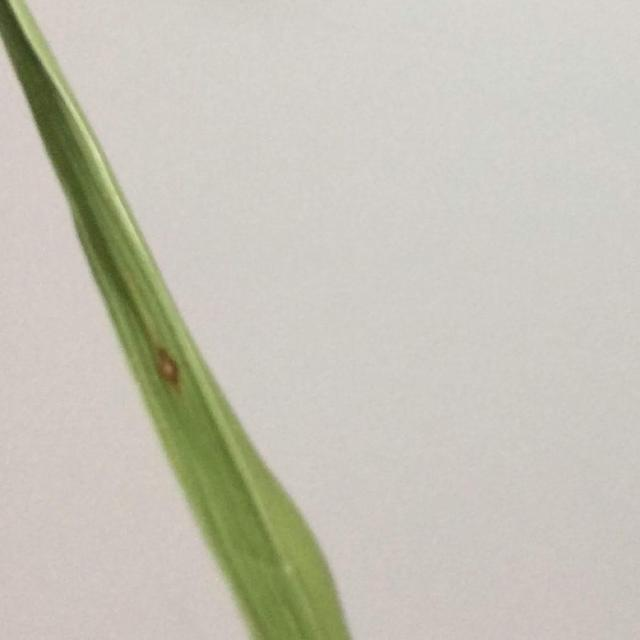Blast: (151, 350, 189, 392)
